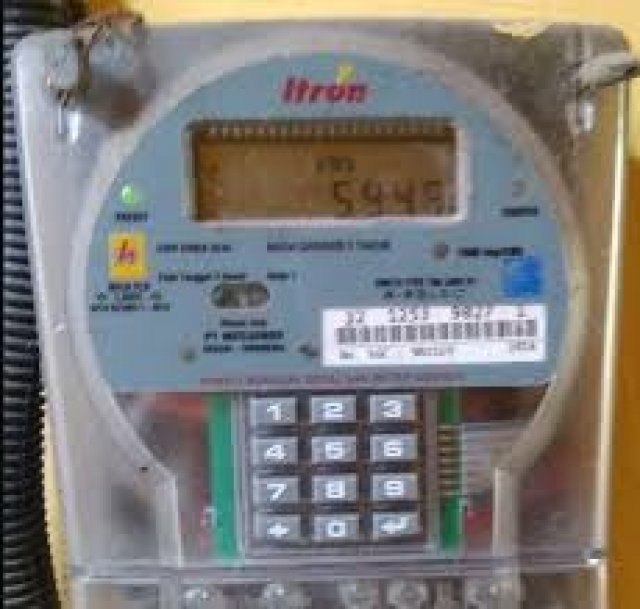box: (191, 136, 460, 220)
